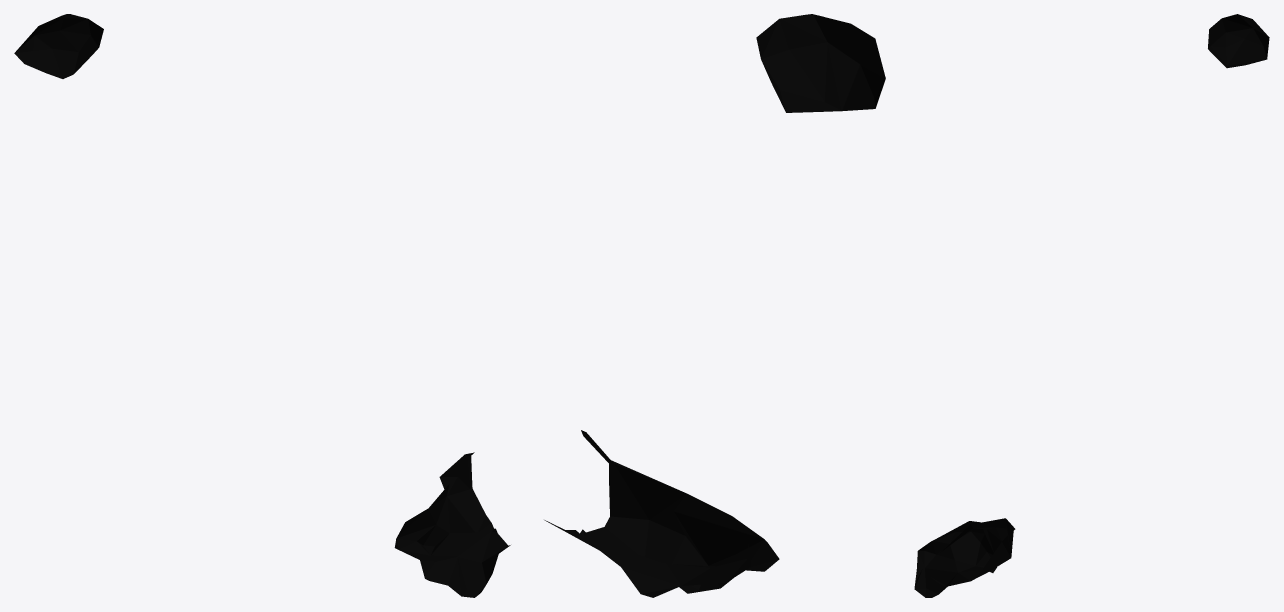
The picture shows the model from 3 angles, left to right: view 1: azimuth 30°, elevation 25°; view 2: azimuth 150°, elevation 25°; view 3: azimuth 270°, elevation 25°; orthographic projection. The views are drawn at different scales.
Bounding box in the file's own units: 1.83 × 2.75 × 1.87.
Materials: 1 (1 with a texture image).
